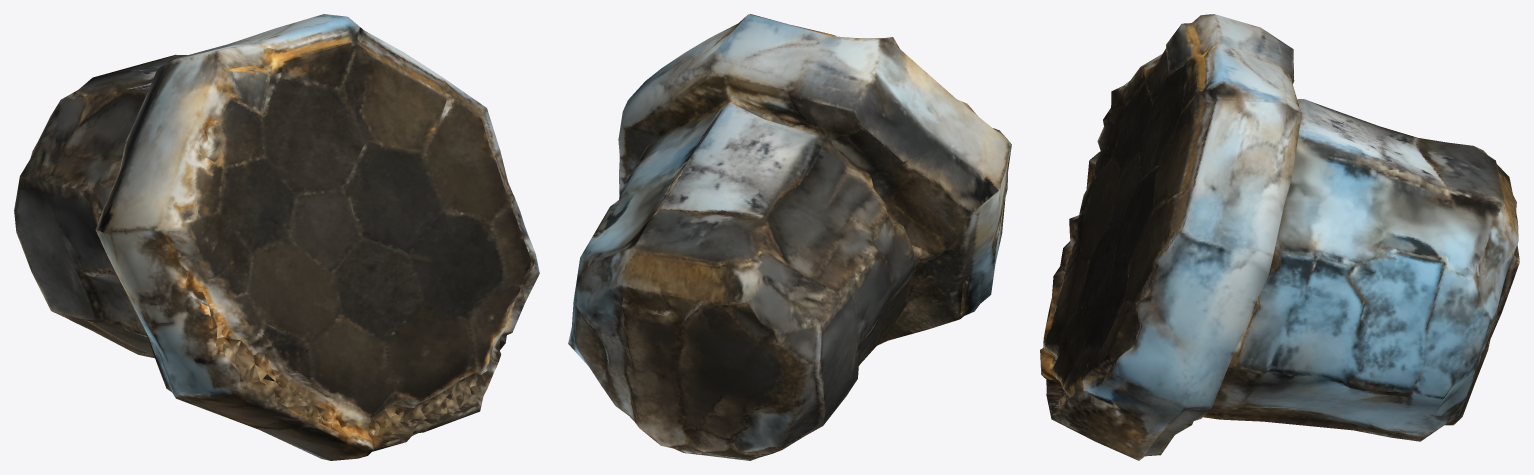
Rendered from heatshield.glb.
The picture shows the model from 3 angles, left to right: view 1: azimuth 30°, elevation 25°; view 2: azimuth 150°, elevation 25°; view 3: azimuth 270°, elevation 25°; orthographic projection. The views are drawn at different scales.
Visible parts, largest first — view 1: low; view 2: low; view 3: low.
Boxes of the visible parts, <box> form: low: <box>14,14,539,460</box>; low: <box>568,14,1011,460</box>; low: <box>1040,14,1519,460</box>.
Size of the model in its own units: 1.89 by 1.71 by 2.
1 material, 1 textured.
